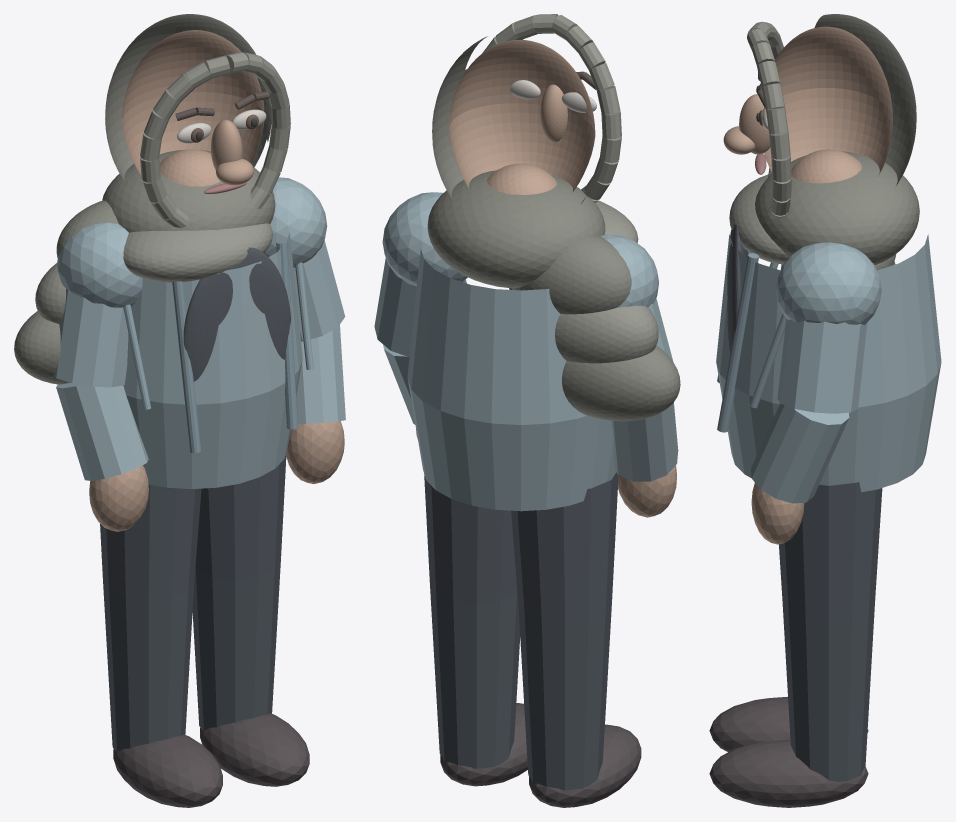
File: jihad_character.glb
The picture shows the model from 3 angles, left to right: view 1: azimuth 30°, elevation 25°; view 2: azimuth 150°, elevation 25°; view 3: azimuth 270°, elevation 25°; orthographic projection. The views are drawn at different scales.
Parts seen in each view (by area): view 1: part_4, part_0, part_2, part_17, part_56, part_57, part_10, part_5, part_1, part_3, part_9, part_8 (+16 smaller); view 2: part_4, part_0, part_2, part_17, part_56, part_60, part_58, part_59, part_10, part_12, part_1, part_13 (+8 smaller); view 3: part_4, part_2, part_17, part_56, part_13, part_12, part_3, part_14, part_31, part_1, part_57, part_15 (+11 smaller).
Boxes of the visible parts, left/top/right/bottom form: part_4: left=123, top=232, right=302, bottom=488; part_0: left=100, top=484, right=201, bottom=751; part_2: left=192, top=455, right=286, bottom=730; part_17: left=121, top=30, right=264, bottom=175; part_56: left=102, top=149, right=275, bottom=232; part_57: left=123, top=223, right=272, bottom=282; part_10: left=56, top=383, right=148, bottom=480; part_5: left=183, top=247, right=290, bottom=381; part_1: left=113, top=734, right=222, bottom=807; part_3: left=200, top=713, right=309, bottom=786; part_9: left=53, top=289, right=128, bottom=387; part_8: left=56, top=222, right=142, bottom=307; part_4: left=407, top=248, right=616, bottom=511; part_0: left=511, top=472, right=618, bottom=790; part_2: left=424, top=473, right=520, bottom=768; part_17: left=449, top=40, right=595, bottom=192; part_56: left=427, top=170, right=605, bottom=288; part_60: left=562, top=345, right=680, bottom=421; part_58: left=512, top=234, right=631, bottom=314; part_59: left=555, top=305, right=658, bottom=363; part_10: left=611, top=402, right=678, bottom=481; part_12: left=382, top=192, right=467, bottom=286; part_1: left=529, top=724, right=641, bottom=807; part_13: left=374, top=258, right=464, bottom=356; part_4: left=716, top=234, right=941, bottom=492; part_2: left=779, top=482, right=882, bottom=781; part_17: left=764, top=26, right=892, bottom=174; part_56: left=755, top=151, right=919, bottom=265; part_13: left=777, top=318, right=867, bottom=413; part_12: left=775, top=242, right=881, bottom=324; part_3: left=709, top=739, right=868, bottom=807; part_14: left=751, top=403, right=849, bottom=503; part_31: left=814, top=14, right=916, bottom=185; part_1: left=709, top=696, right=868, bottom=751; part_57: left=729, top=174, right=789, bottom=264; part_15: left=751, top=483, right=804, bottom=544.
Bounding box in the file's own units: 0.8134 × 1.9 × 0.525.
